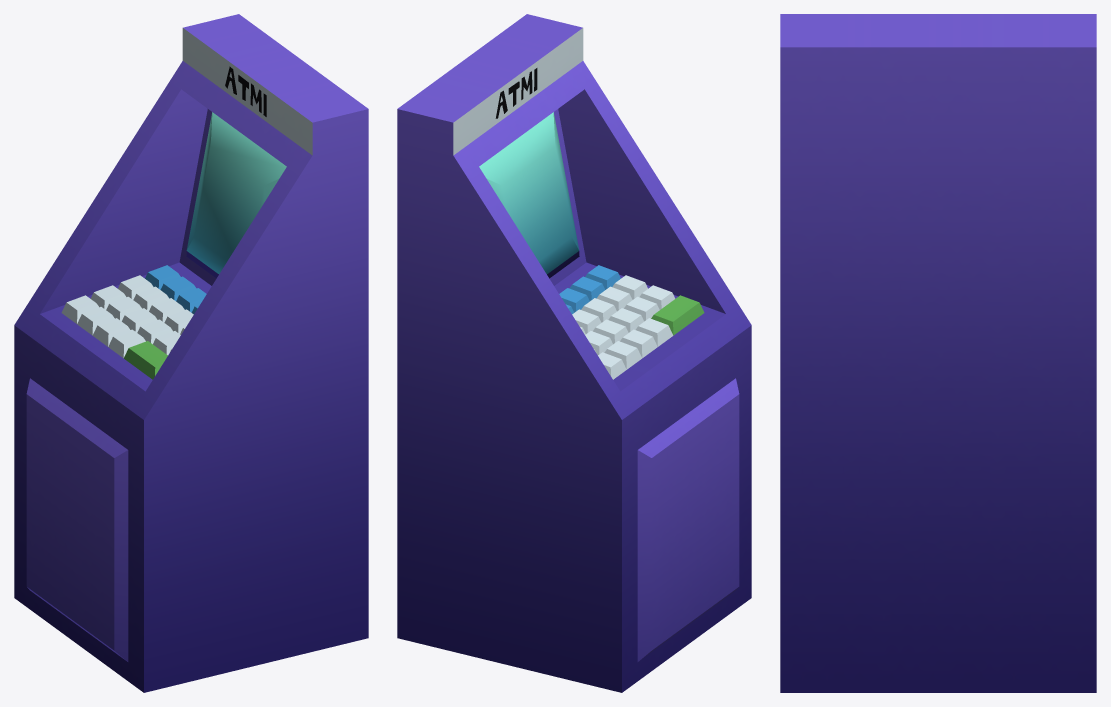
File: ATM.fbx
3 renders of one model, left to right at view 1: azimuth 30°, elevation 25°; view 2: azimuth 150°, elevation 25°; view 3: azimuth 270°, elevation 25°, orthographic. The views are drawn at different scales.
Visible parts, largest first — view 1: Cube.005; view 2: Cube.005; view 3: Cube.005.
Boxes of the visible parts, left/top/right/bottom form: Cube.005: left=14, top=14, right=368, bottom=692; Cube.005: left=397, top=14, right=751, bottom=692; Cube.005: left=780, top=14, right=1096, bottom=692.
Size of the model in its own units: 83.09 by 80 by 180.
